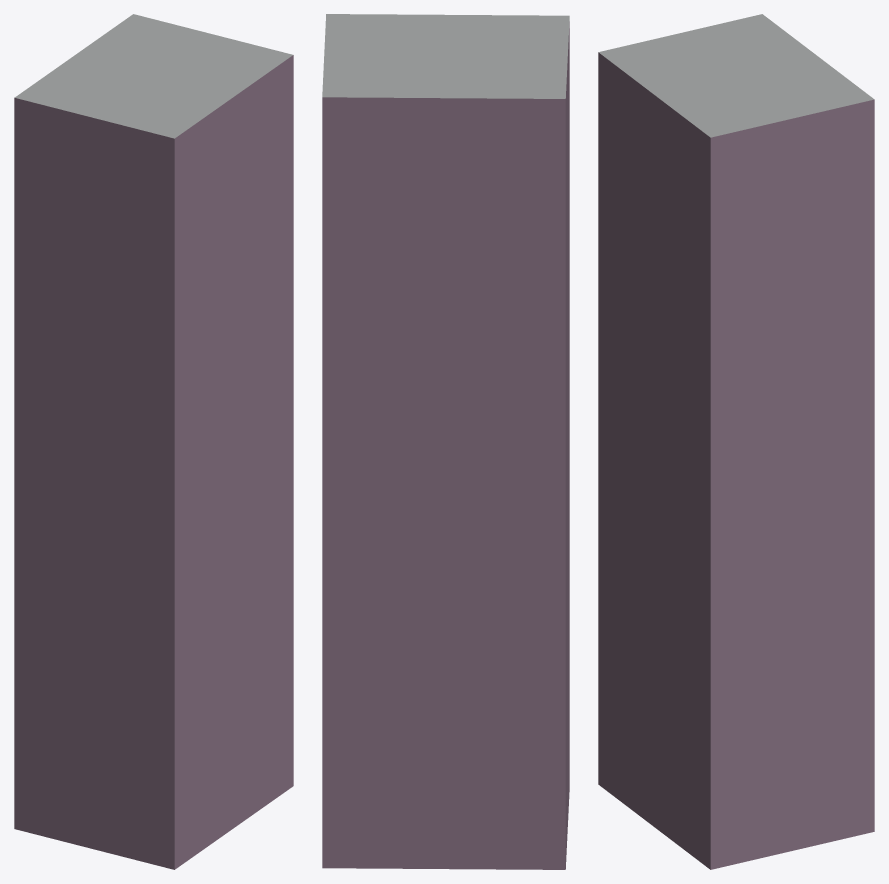
The model's file is nyc-1090404-0.glb.
The picture shows the model from 3 angles, left to right: view 1: azimuth 30°, elevation 25°; view 2: azimuth 150°, elevation 25°; view 3: azimuth 270°, elevation 25°; orthographic projection. The views are drawn at different scales.
Visible parts, largest first — view 1: nyc-1090404-0; view 2: nyc-1090404-0; view 3: nyc-1090404-0.
Boxes of the visible parts, <box> form: nyc-1090404-0: <box>14,14,293,869</box>; nyc-1090404-0: <box>322,14,569,869</box>; nyc-1090404-0: <box>598,14,874,869</box>.
Bounding box in the file's own units: 39.86 × 110 × 37.64.
